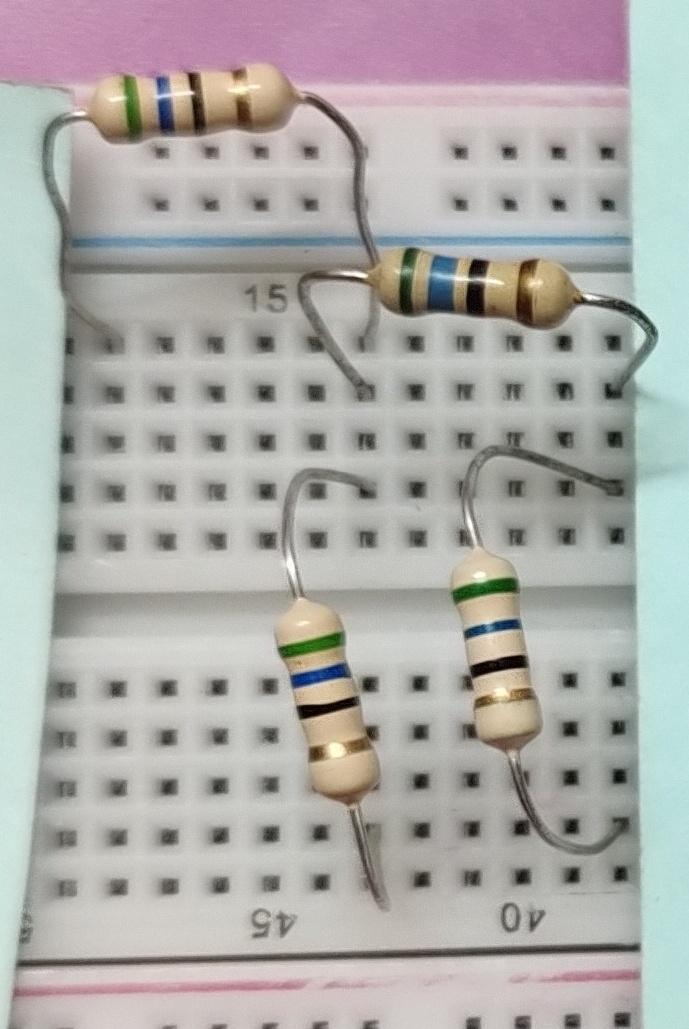resistor: (252, 585, 392, 808), (422, 538, 562, 760), (78, 48, 318, 160), (358, 243, 585, 338)
